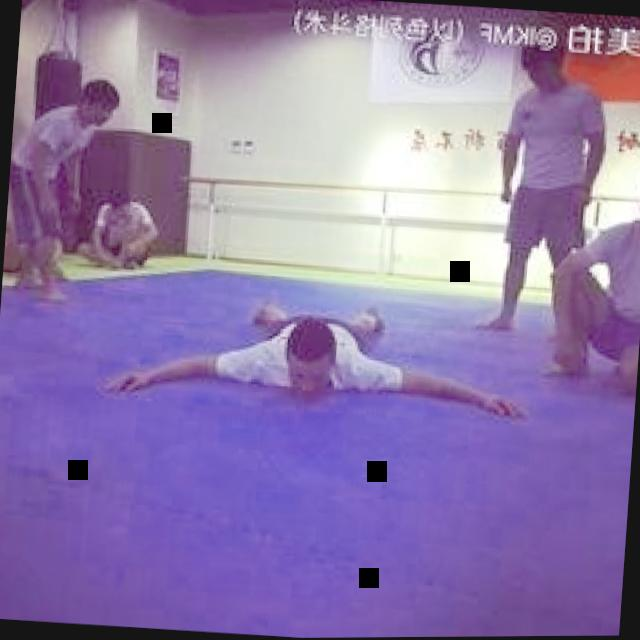Fall-Detected: (101, 268, 538, 425)
